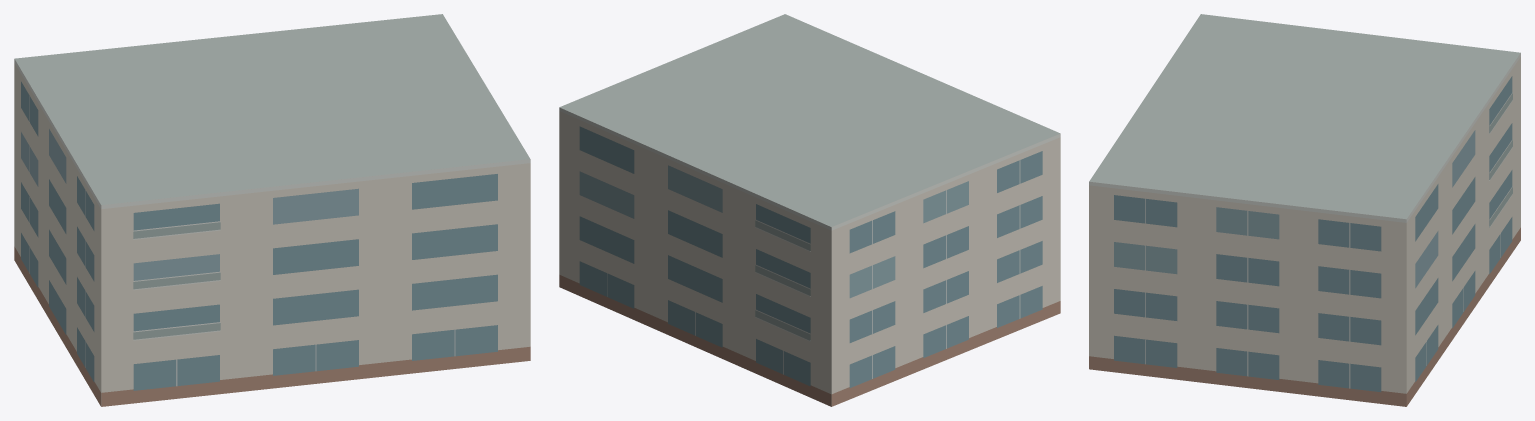
File: survey-upis-32983400.glb
3 views of the same model, side by side, from view 1: azimuth 30°, elevation 25°; view 2: azimuth 150°, elevation 25°; view 3: azimuth 270°, elevation 25° (orthographic). The views are drawn at different scales.
Parts seen in each view (by area): view 1: survey-upis-32983400.tmp; view 2: survey-upis-32983400.tmp; view 3: survey-upis-32983400.tmp.
Boxes of the visible parts, x1,y1,x2,y2 form: survey-upis-32983400.tmp: [14, 14, 530, 406]; survey-upis-32983400.tmp: [559, 14, 1060, 406]; survey-upis-32983400.tmp: [1089, 14, 1520, 406].
Size of the model in its own units: 28.86 by 12.3 by 25.66.
